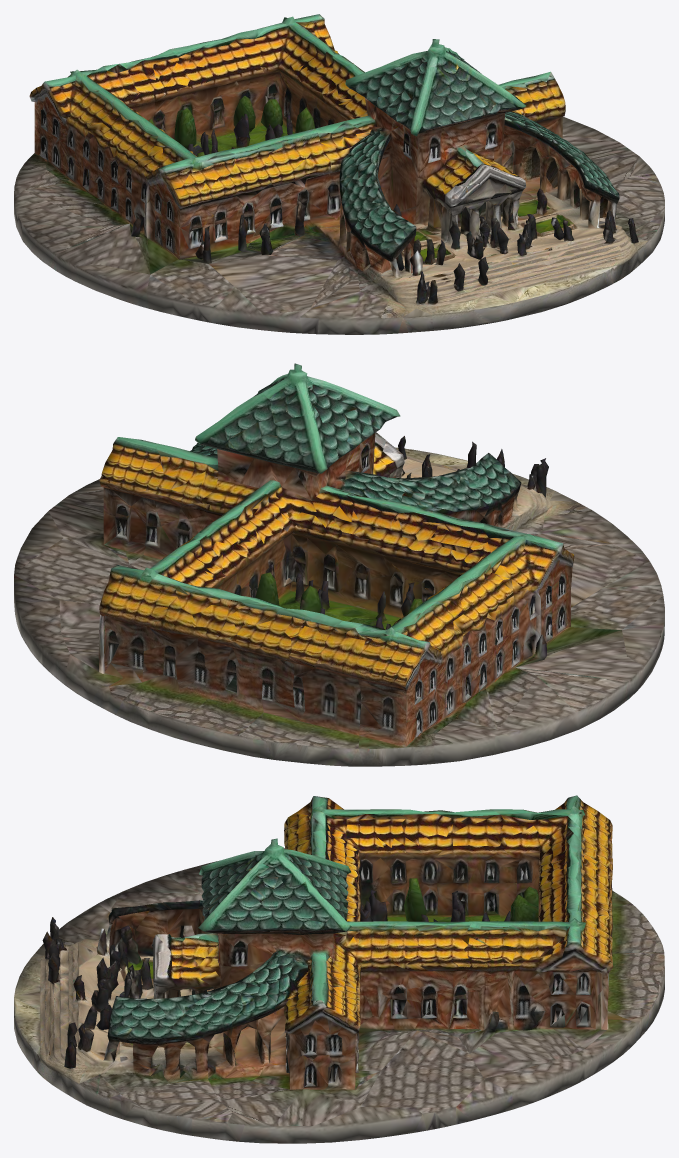
Rendered from universita.glb.
3 views of the same model, one above another, from view 1: azimuth 30°, elevation 25°; view 2: azimuth 150°, elevation 25°; view 3: azimuth 270°, elevation 25° (orthographic). The views are drawn at different scales.
Bounding box in the file's own units: 1.9 × 0.6125 × 1.83.
Materials: 1 (1 with a texture image).
